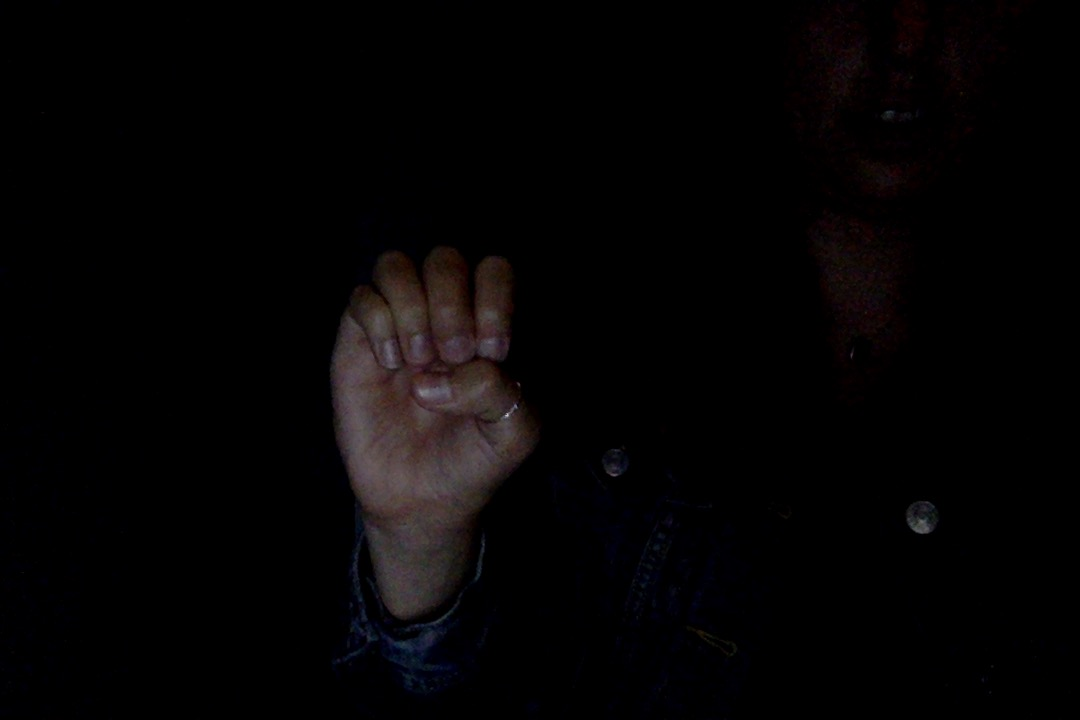e: (288, 219, 569, 592)
